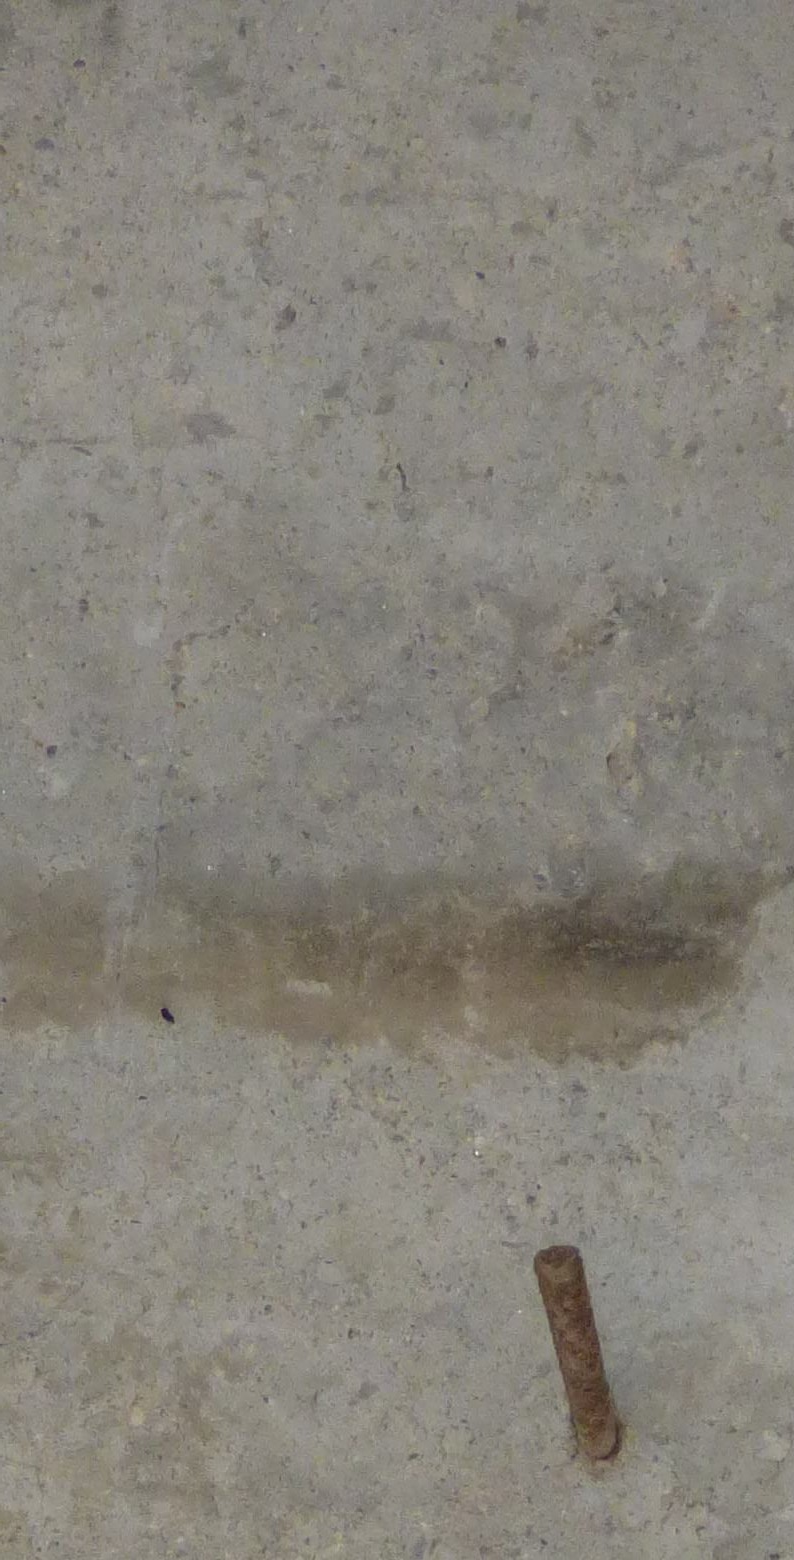Corrosion: (1, 852, 794, 1073)
Exposed reinforcement: (533, 1245, 618, 1459)
